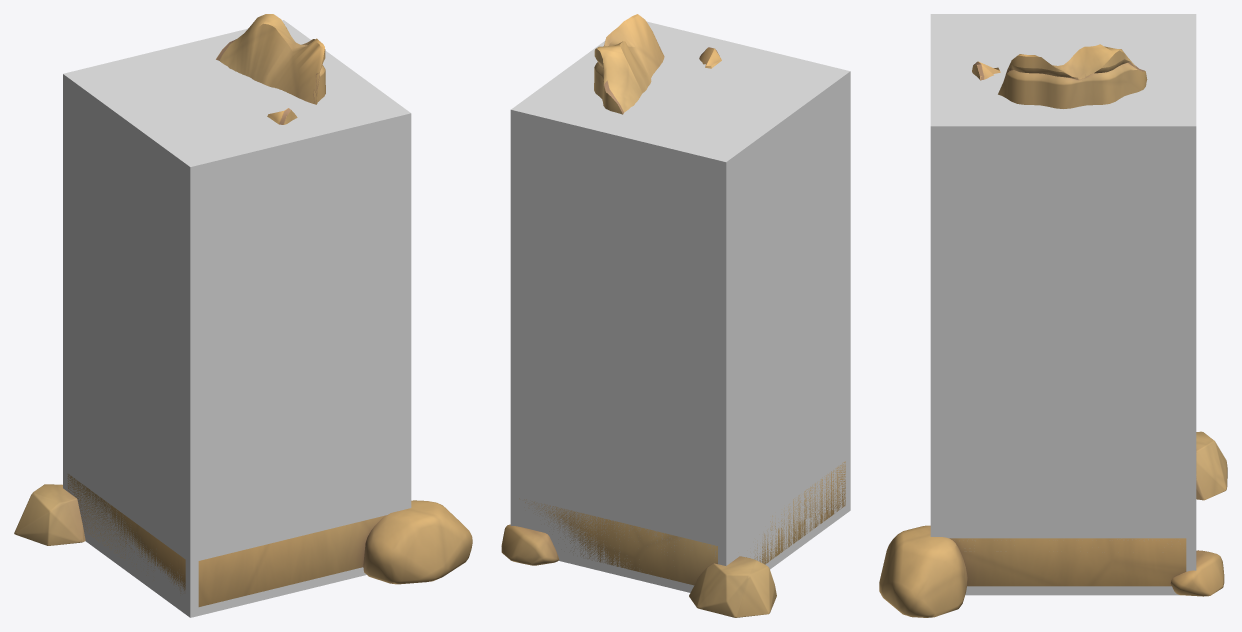
File: SD_P04_Column_Broken.fbx
3 renders of one model, left to right at view 1: azimuth 30°, elevation 25°; view 2: azimuth 150°, elevation 25°; view 3: azimuth 270°, elevation 25°, orthographic. The views are drawn at different scales.
Visible parts, largest first — view 1: COL_Column, Column_LOD0; view 2: COL_Column, Column_LOD0; view 3: COL_Column, Column_LOD0.
Part boxes in pixels (<box>): COL_Column: <box>63,20,411,617</box>; Column_LOD0: <box>14,14,472,606</box>; COL_Column: <box>510,21,850,592</box>; Column_LOD0: <box>501,14,845,617</box>; COL_Column: <box>930,14,1196,595</box>; Column_LOD0: <box>879,44,1227,617</box>.
Size of what is drawn, in the model's own units: 1.16 by 1.72 by 1.05.
